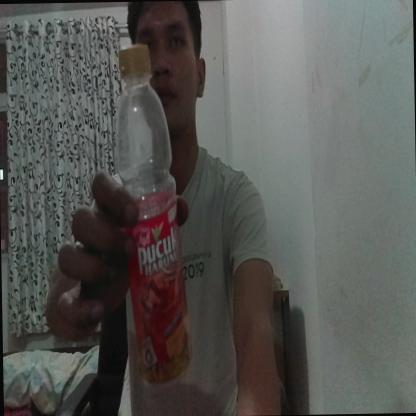plastic_bottles: (110, 40, 193, 392)
